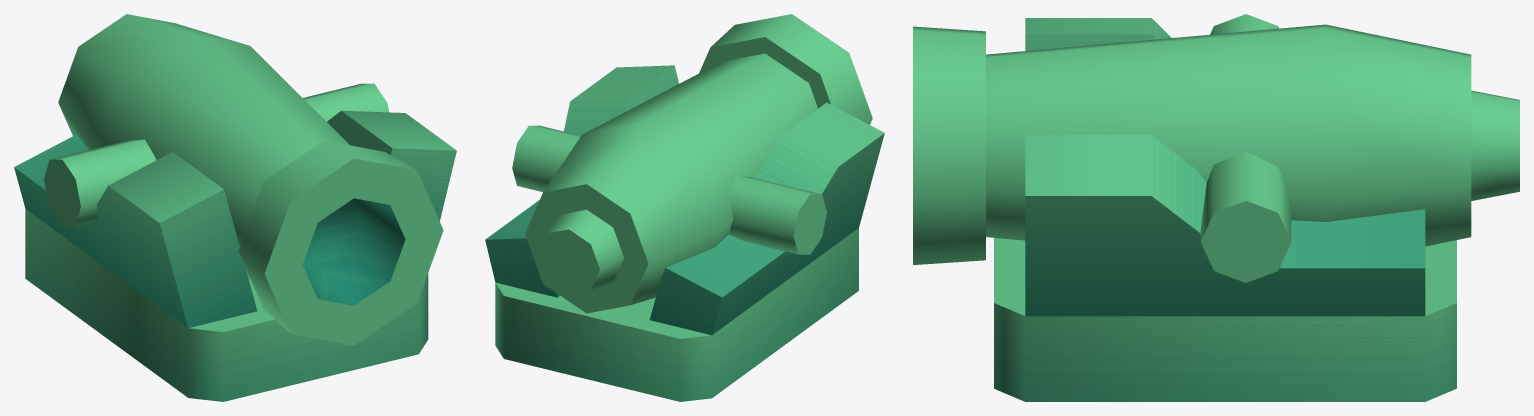
The model's file is cannon-ghost.glb.
3 views of the same model, side by side, from view 1: azimuth 30°, elevation 25°; view 2: azimuth 150°, elevation 25°; view 3: azimuth 270°, elevation 25° (orthographic). The views are drawn at different scales.
Parts seen in each view (by area): view 1: cannon, Group, Group.001; view 2: cannon, Group, Group.001; view 3: cannon, Group.001, Group.
Boxes of the visible parts, x1,y1,x2,y2 form: cannon: (25,14,443,401); Group: (14,134,257,327); Group.001: (327,110,456,221); cannon: (495,14,872,401); Group: (649,102,884,335); Group.001: (485,65,678,297); cannon: (913,14,1519,401); Group.001: (1025,135,1425,316); Group: (1025,18,1171,50).
Bounding box in the file's own units: 1.4 × 1.05 × 1.92.
Materials: 1 (1 with a texture image).
